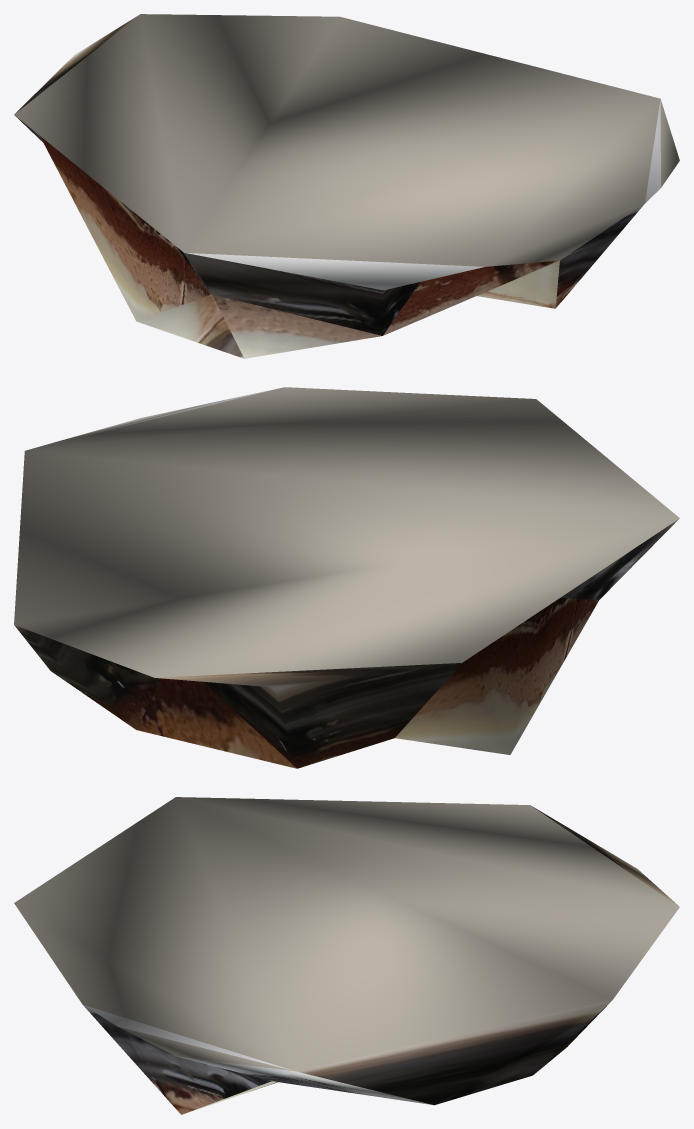
The model's file is cake_54.obj.
3 renders of one model, top to bottom at view 1: azimuth 30°, elevation 25°; view 2: azimuth 150°, elevation 25°; view 3: azimuth 270°, elevation 25°, orthographic. The views are drawn at different scales.
Bounding box in the file's own units: 0.1631 × 0.0459 × 0.1822.
1 material, 1 textured.
